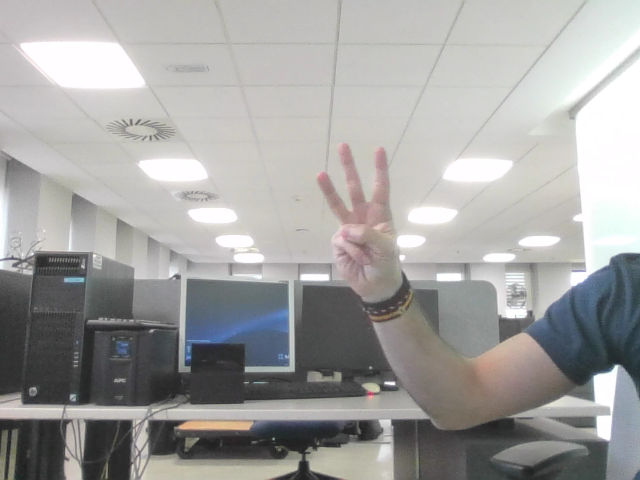3Dedos: (325, 155, 384, 263)
